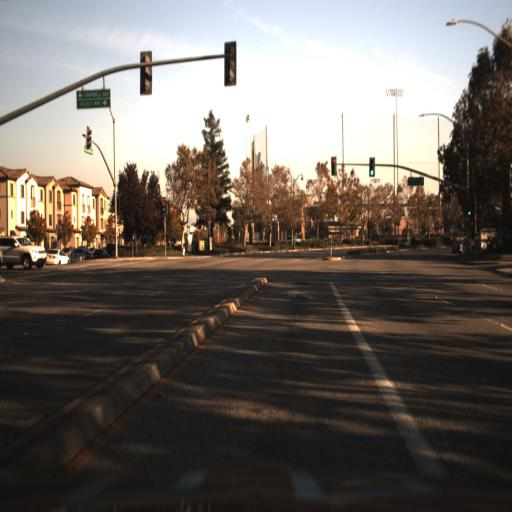car: (0, 234, 46, 271), (45, 247, 68, 266), (68, 244, 89, 264), (68, 246, 89, 265), (45, 247, 69, 263)
trafficLight-Green: (366, 154, 375, 180), (465, 197, 475, 219), (465, 205, 475, 222), (366, 167, 375, 183)
trafficLight-RedLeft: (331, 153, 338, 169)
